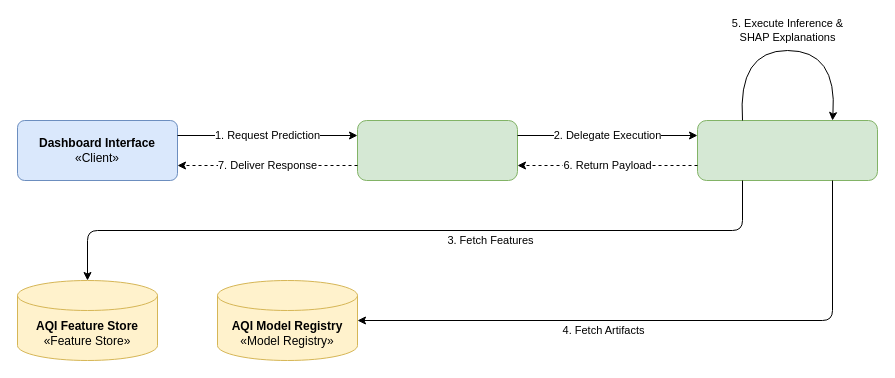
This 895x378 diagram has some shape labels left out. Each missing label, with the box of its shape:
FastAPI Backend «API Gateway»: (356, 120, 518, 180)
Prediction Pipeline «Component»: (696, 120, 878, 180)
